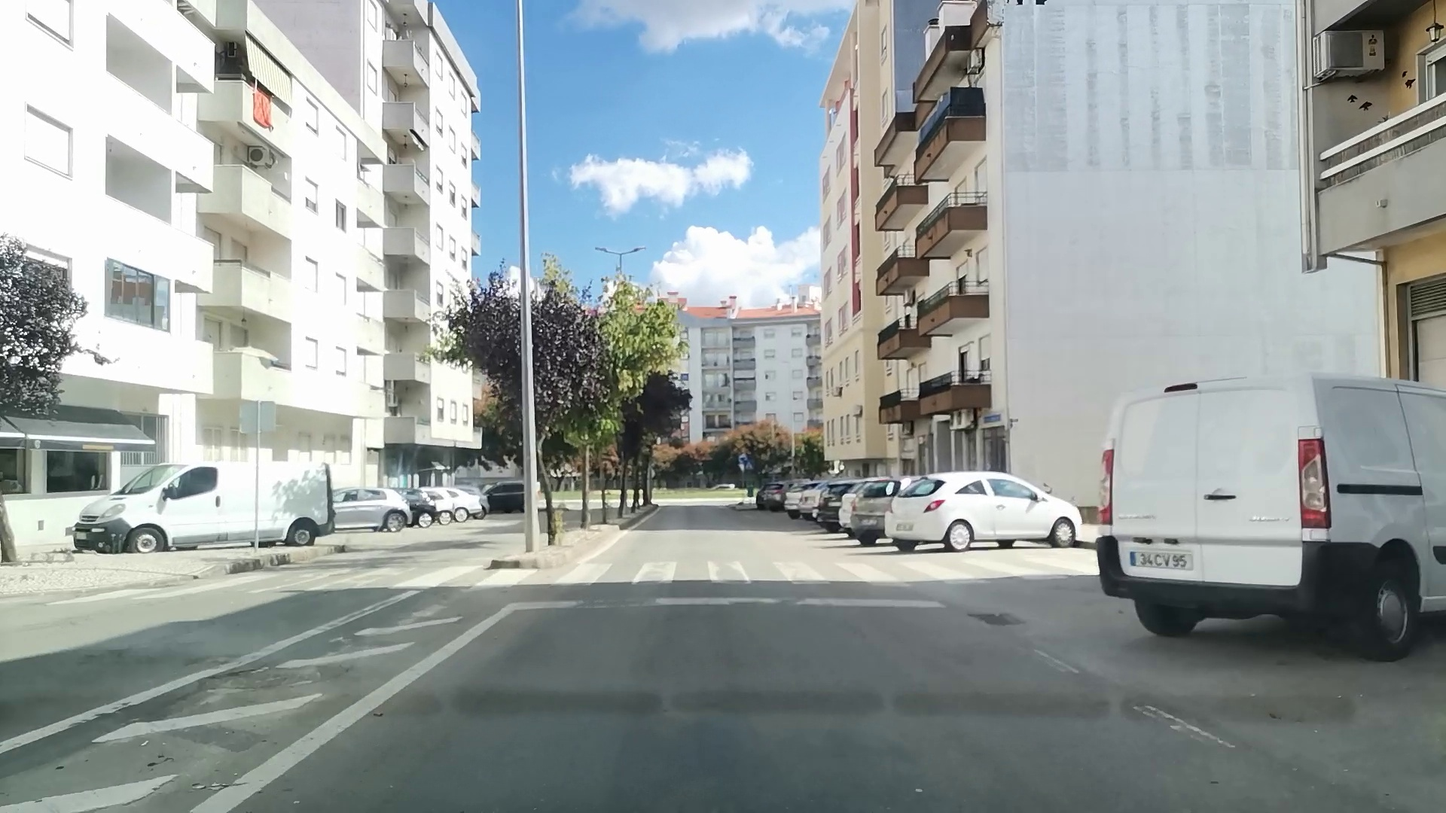Stairs: (53, 558, 414, 603)
